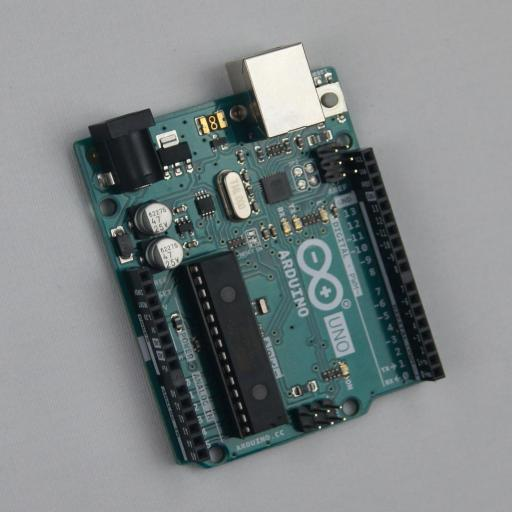Arduino Uno -Green-: (69, 42, 445, 469)
